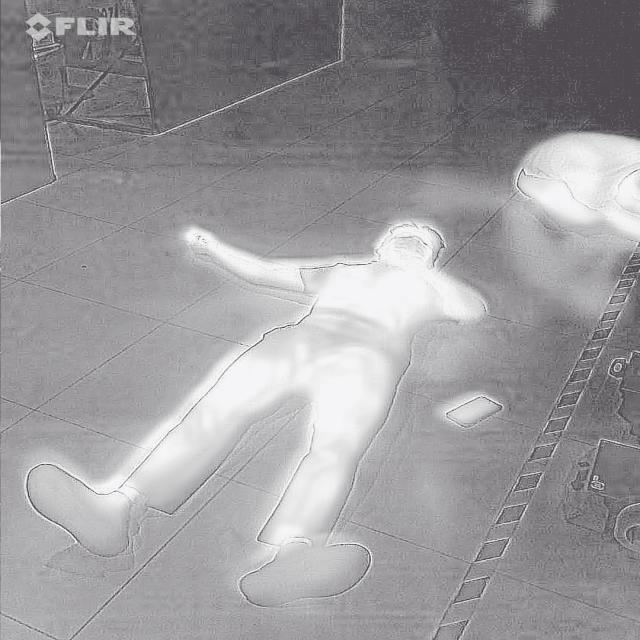Victim: (15, 217, 490, 609), (506, 130, 638, 246)
